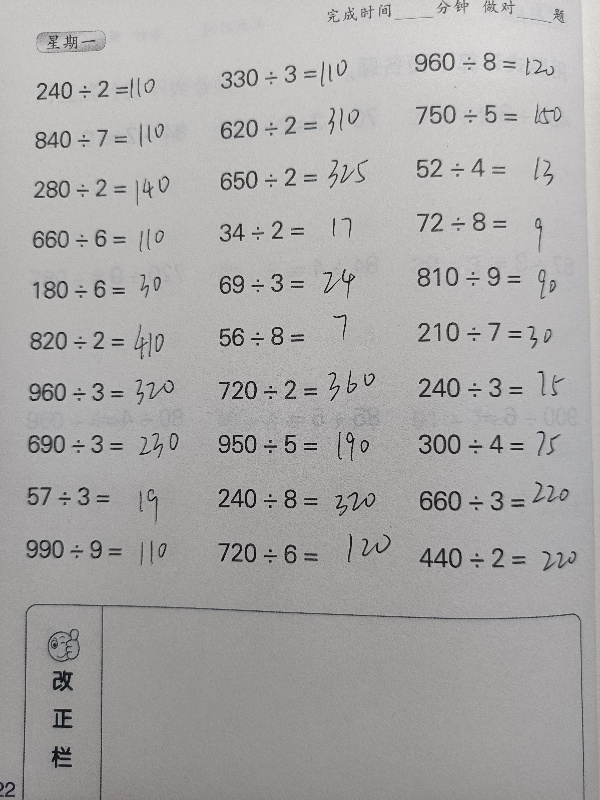equation: (21, 313, 201, 363), (19, 479, 202, 528), (211, 366, 391, 411), (211, 152, 391, 196), (408, 258, 581, 303), (25, 170, 205, 213), (410, 477, 590, 519), (211, 101, 391, 143), (210, 311, 388, 353), (21, 372, 201, 413), (212, 57, 392, 98), (409, 313, 589, 353), (26, 119, 206, 157), (405, 44, 585, 81), (411, 540, 591, 576), (209, 535, 389, 571), (410, 426, 590, 462), (27, 70, 207, 106), (18, 532, 198, 567), (210, 481, 390, 516), (411, 369, 591, 404), (210, 266, 390, 301), (409, 205, 589, 240), (407, 149, 587, 184), (408, 97, 588, 132), (210, 427, 390, 461), (20, 427, 200, 461), (25, 272, 205, 306), (211, 213, 391, 247), (23, 222, 203, 255)
